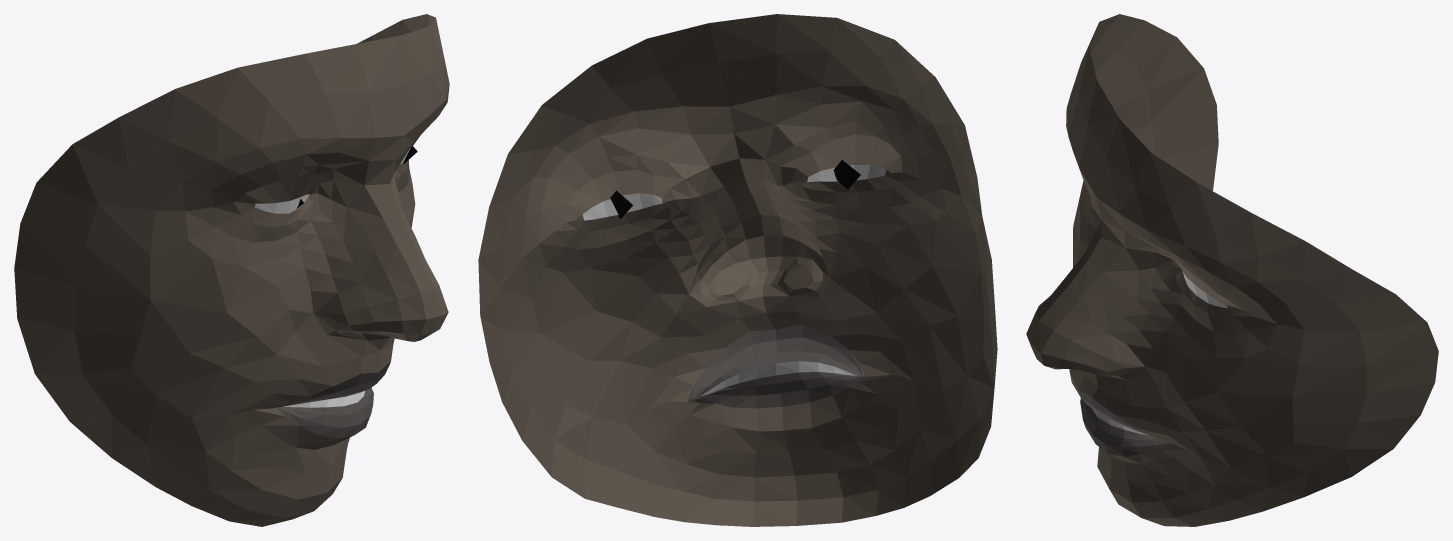
File: frame_00086.obj
3 renders of one model, left to right at view 1: azimuth 30°, elevation 25°; view 2: azimuth 150°, elevation 25°; view 3: azimuth 270°, elevation 25°, orthographic. The views are drawn at different scales.
Visible parts, largest first — view 1: face_model_with_iris; view 2: face_model_with_iris; view 3: face_model_with_iris.
Boxes of the visible parts, left/top/right/bottom form: face_model_with_iris: left=14, top=14, right=449, bottom=526; face_model_with_iris: left=478, top=14, right=997, bottom=526; face_model_with_iris: left=1026, top=14, right=1438, bottom=526.
Bounding box in the file's own units: 0.4993 × 0.5356 × 0.4367.
